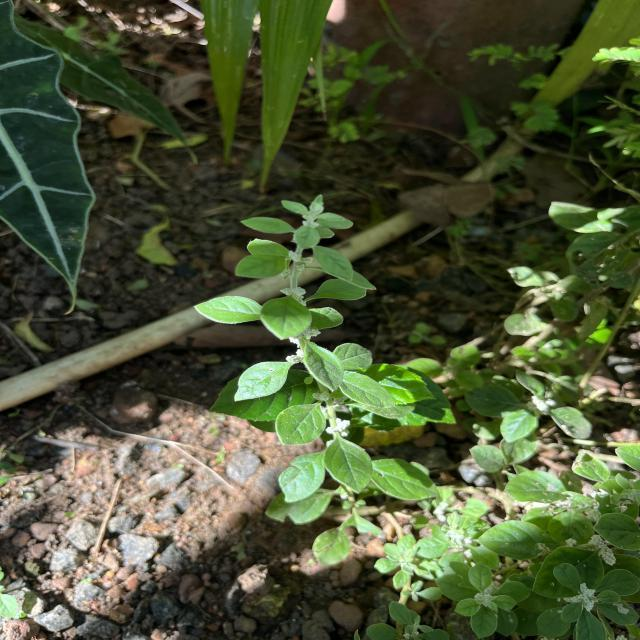Aerva lanata: (230, 360, 298, 404), (299, 338, 346, 394), (274, 402, 328, 447), (340, 370, 397, 410), (190, 294, 262, 325), (314, 276, 372, 302)
